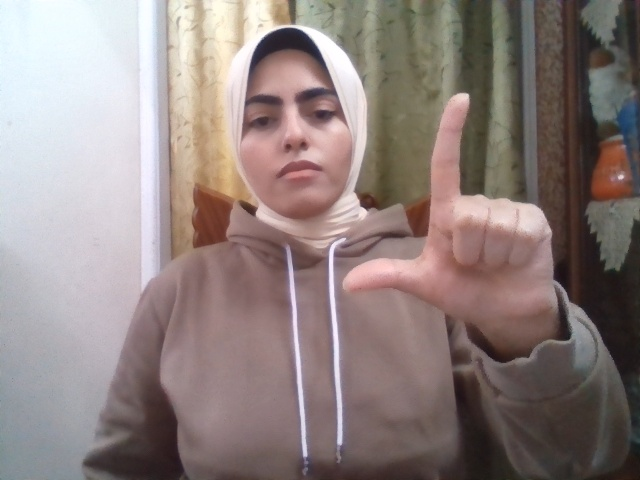L: (342, 94, 558, 333)
